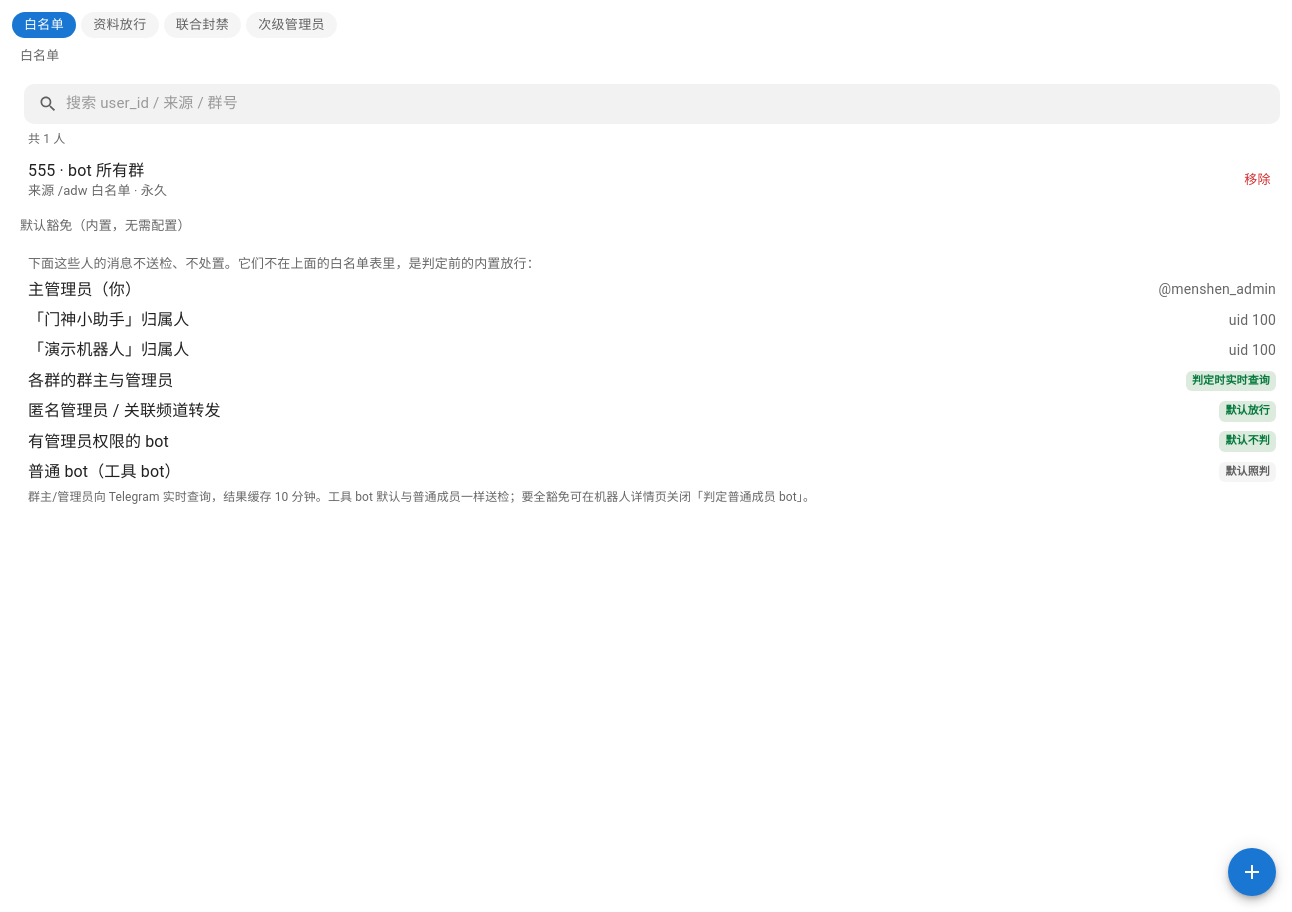
Test: ListsPage 四处搜索（本地过滤 + 焦点不丢） › 专属组：按 uid / 原因过滤，输入焦点不丢
Expected: the text "555 · bot 所有群" is shown, [28,161,144,180]
Click the button "联合封禁" at [202, 25], box [164,12,241,38]
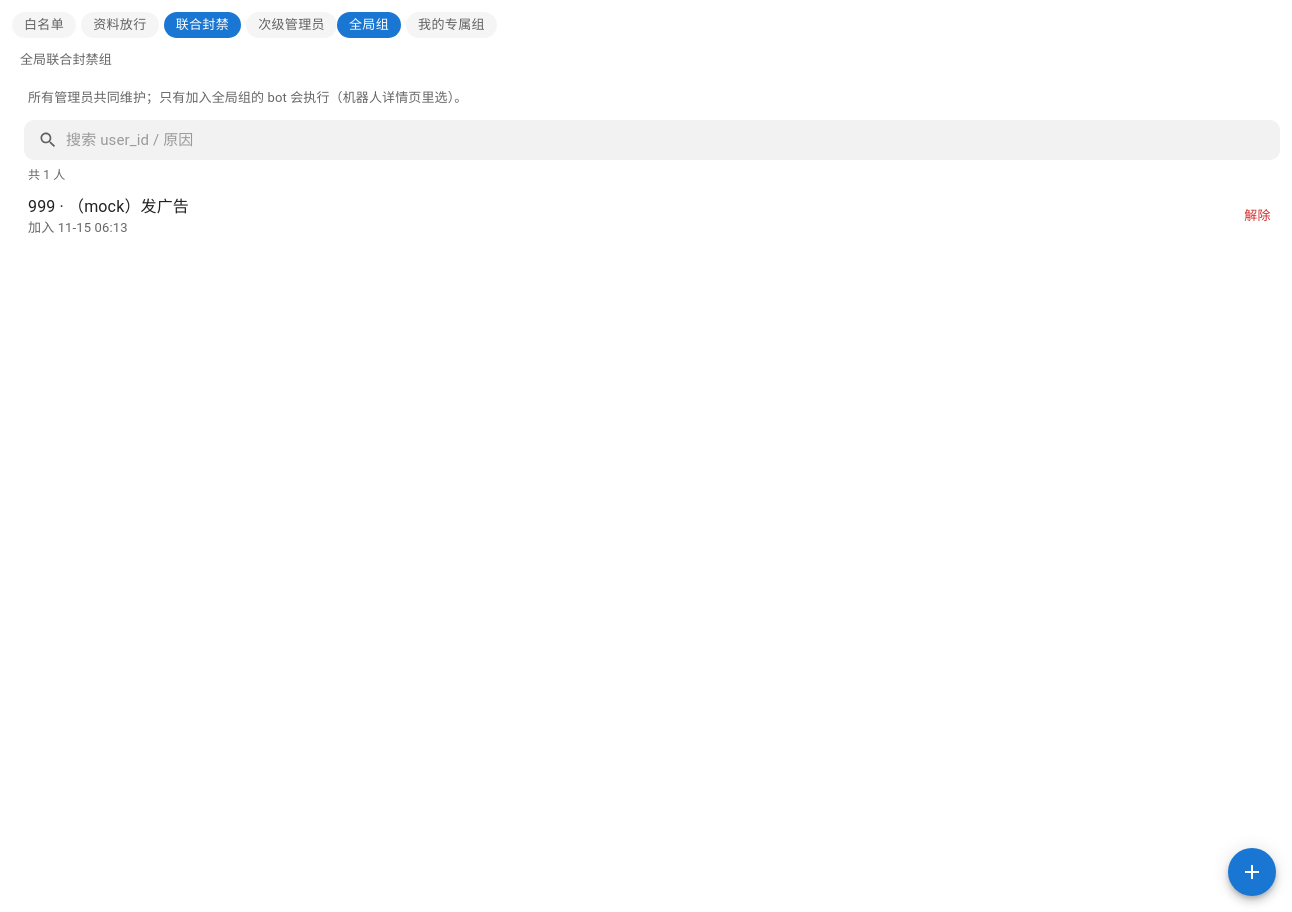
Click the button "我的专属组" at [452, 25], box [406,12,497,38]
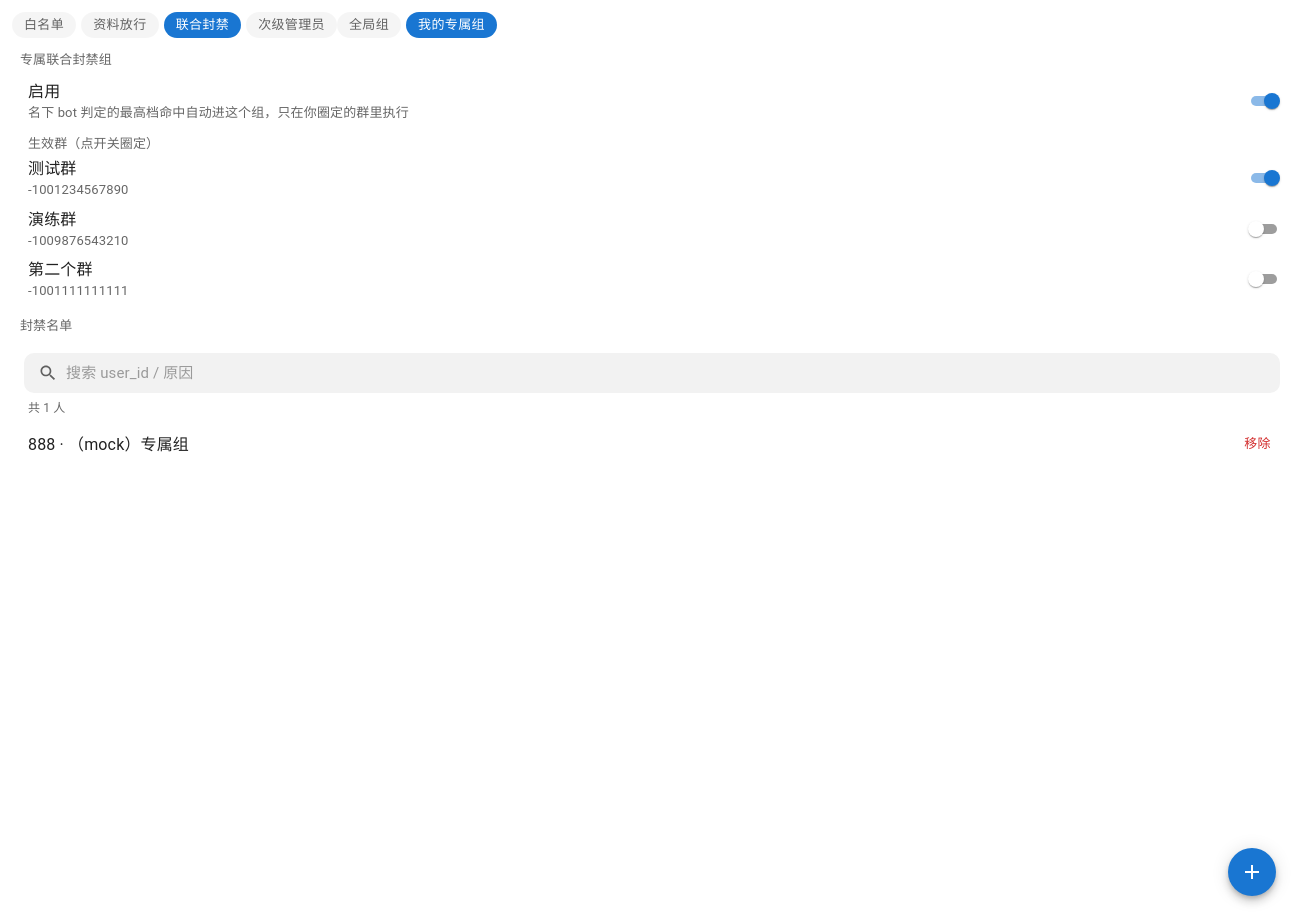
Type "888" into the field named "搜索专属组" at [673, 374], box [66,354,1280,393]
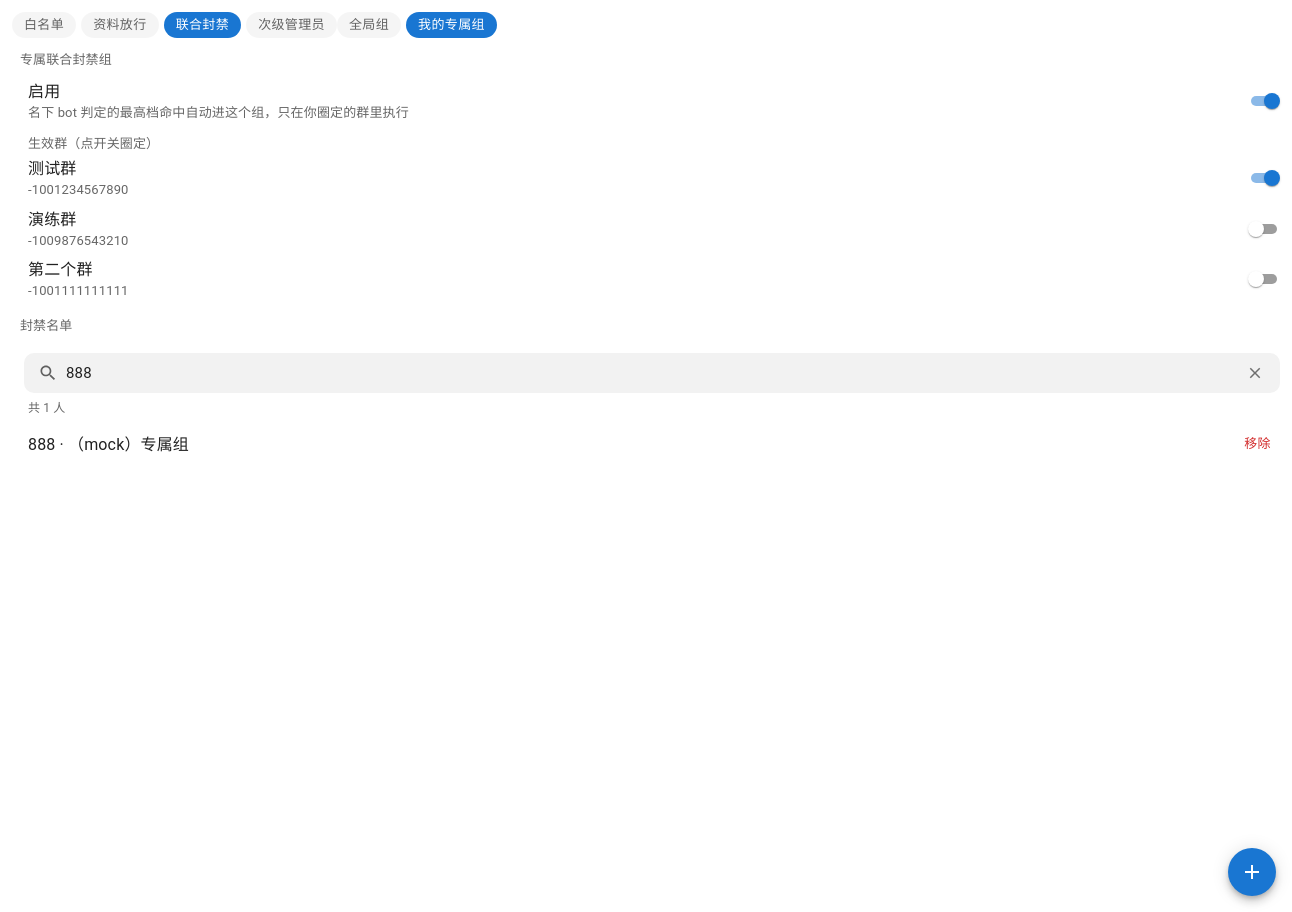
Expected: the text "888 · （mock）专属组" is shown, [28,435,189,454]
Replace the text in the field named "搜索专属组" with "专属组" at [650, 374], box [66,354,1233,393]
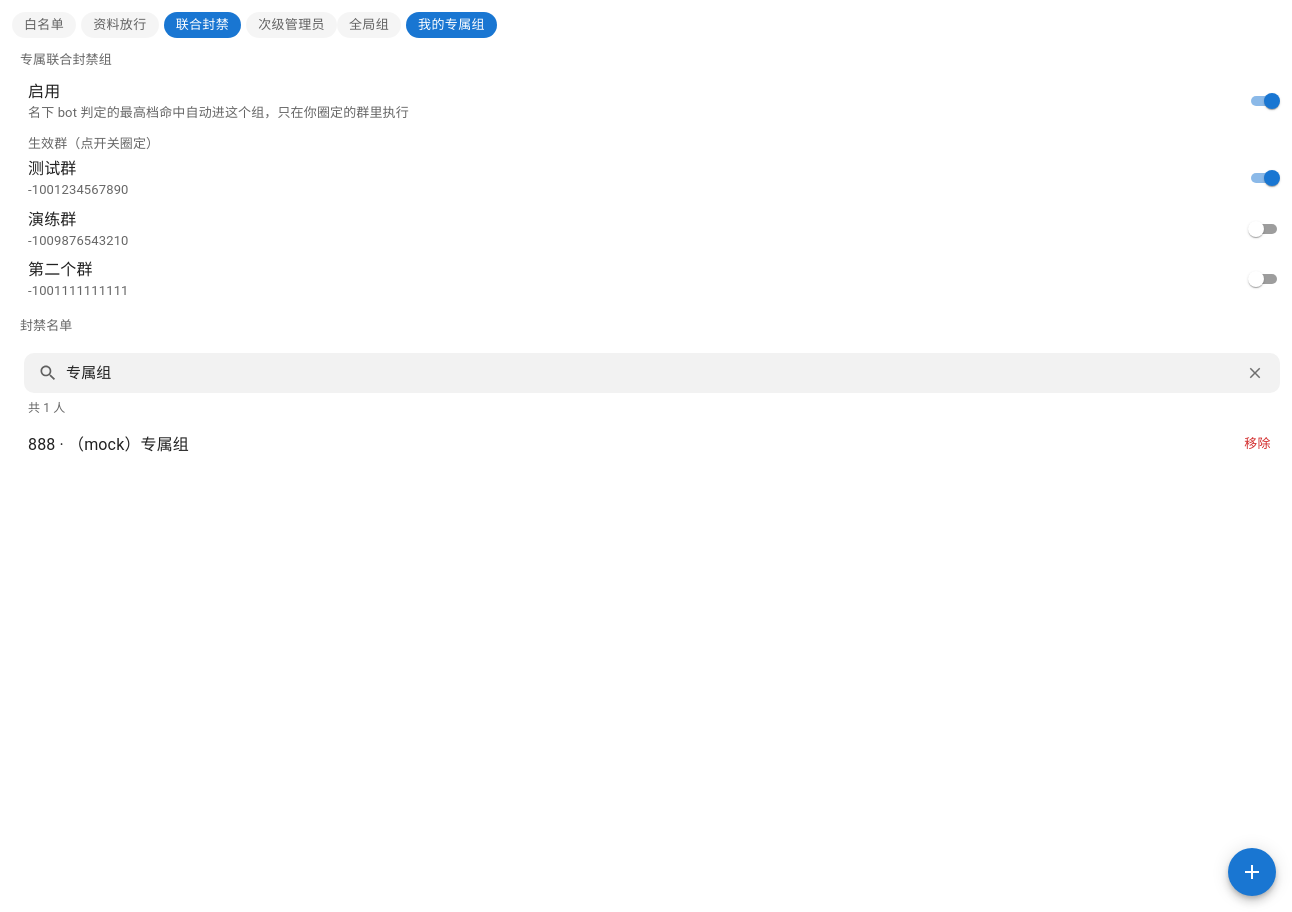
Expected: the text "888 · （mock）专属组" is shown, [28,435,189,454]
Replace the text in the field named "搜索专属组" with "999" at [650, 374], box [66,354,1233,393]
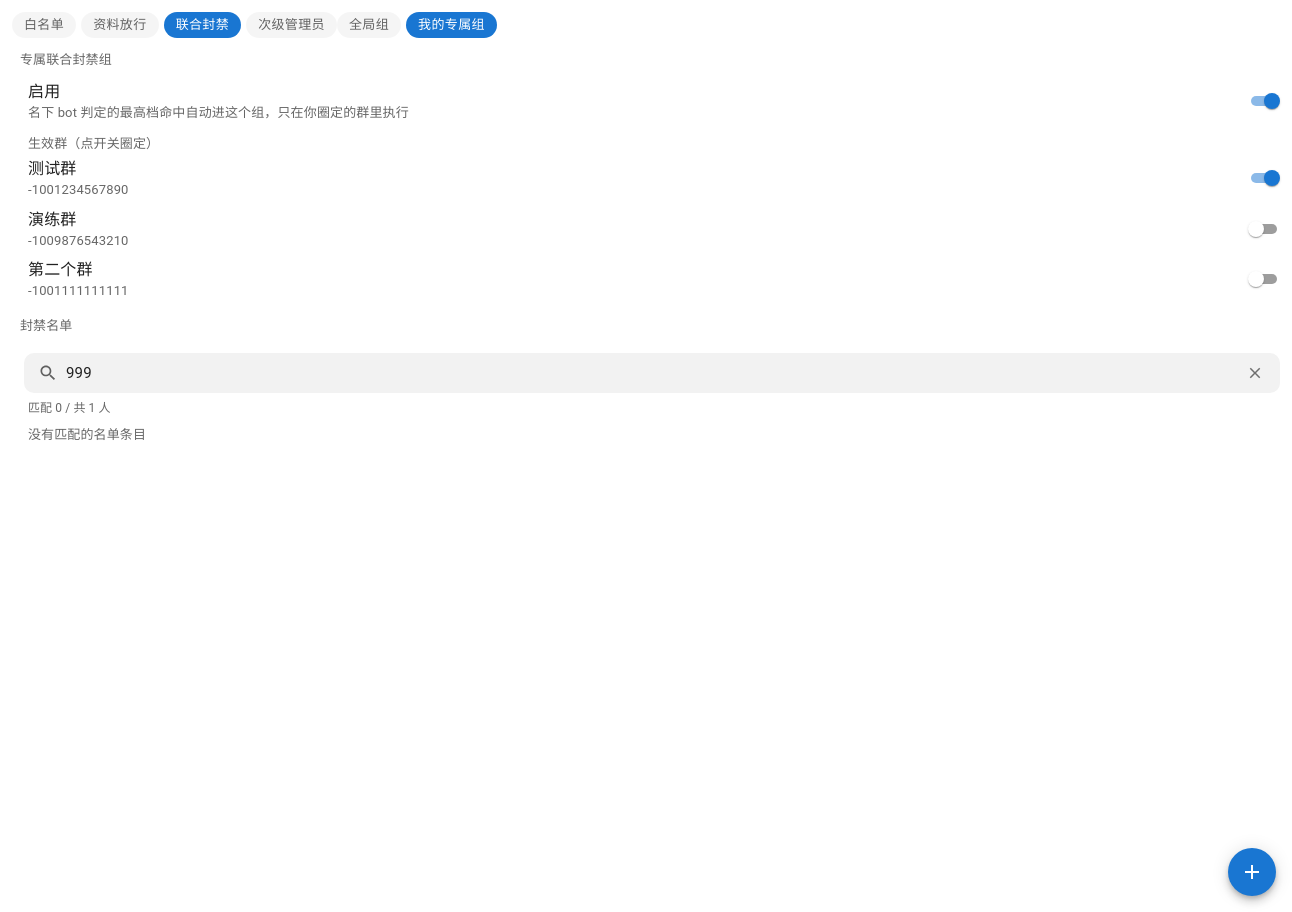
Expected: the text "888 · （mock）专属组" is gone
Expected: the text "没有匹配的名单条目" is shown, [28,427,146,442]
